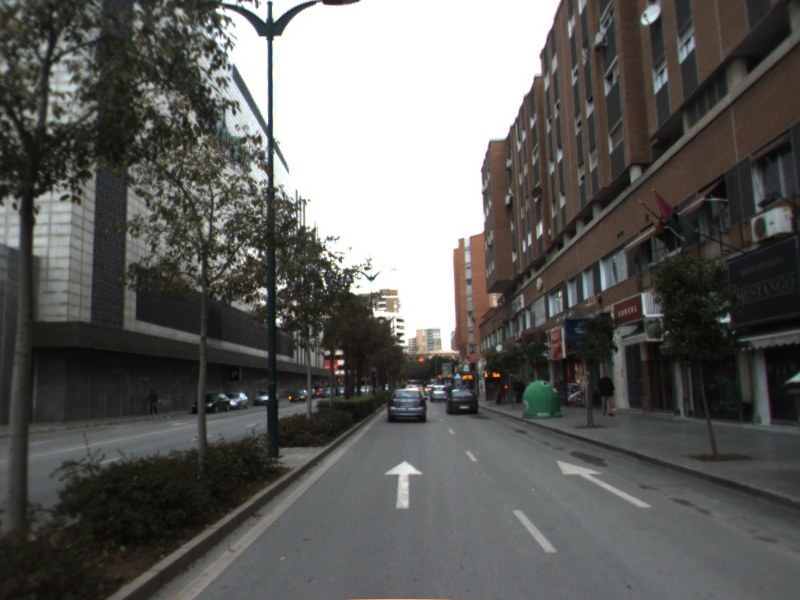STRAIGHT: (555, 458, 654, 510), (382, 458, 426, 511)
